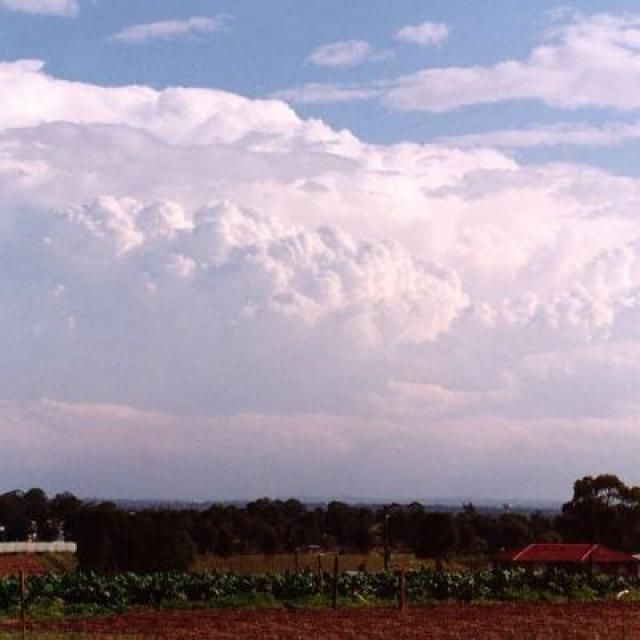St: (1, 50, 640, 432)
